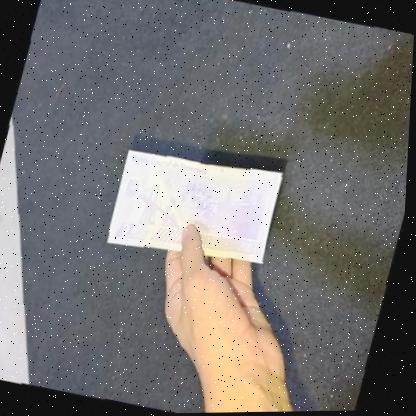two_hundred-back-vef: (104, 140, 290, 275)
